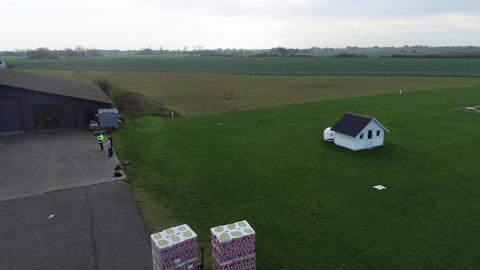RockwoolPallet: (150, 222, 196, 270)
